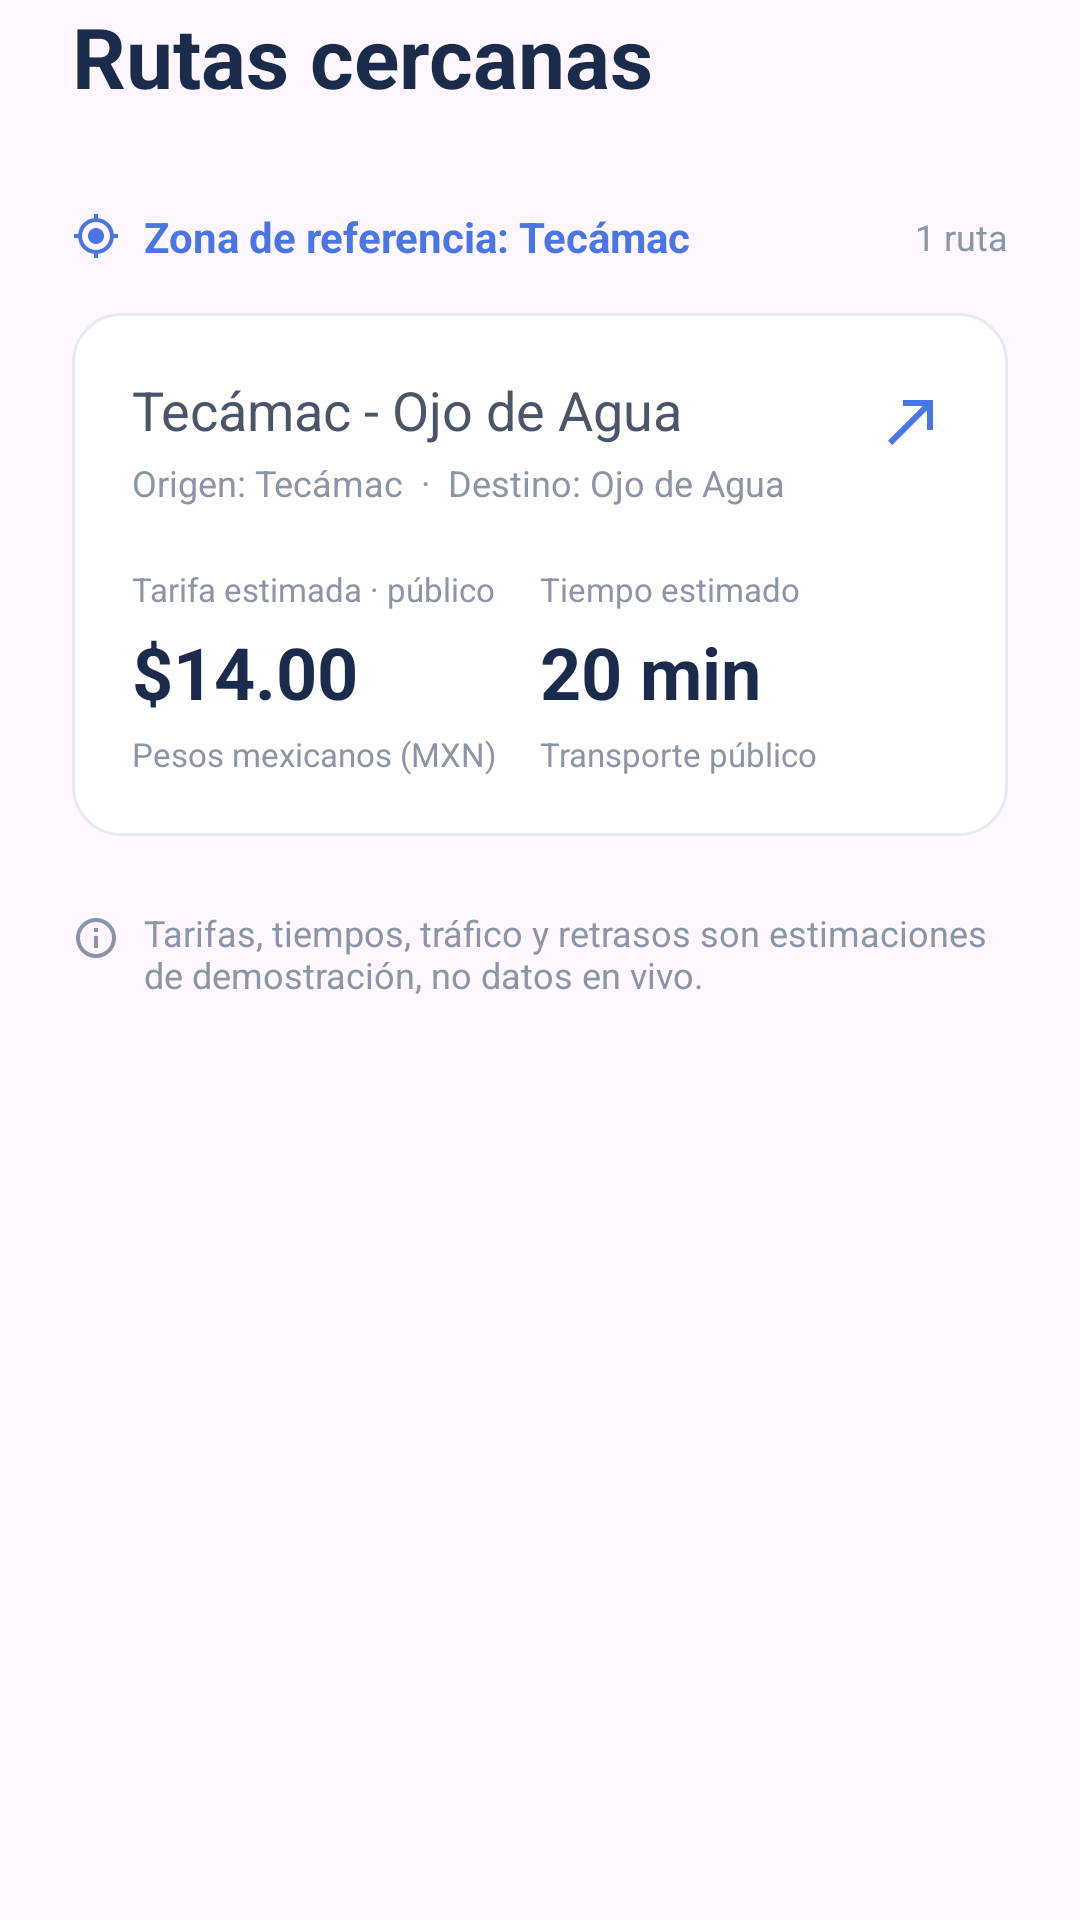

Icon click points for this 1080px x 1920px phone screenshot, format (x,y):
arrow outward: (910,422)
info: (96,938)
location: (96,236)
